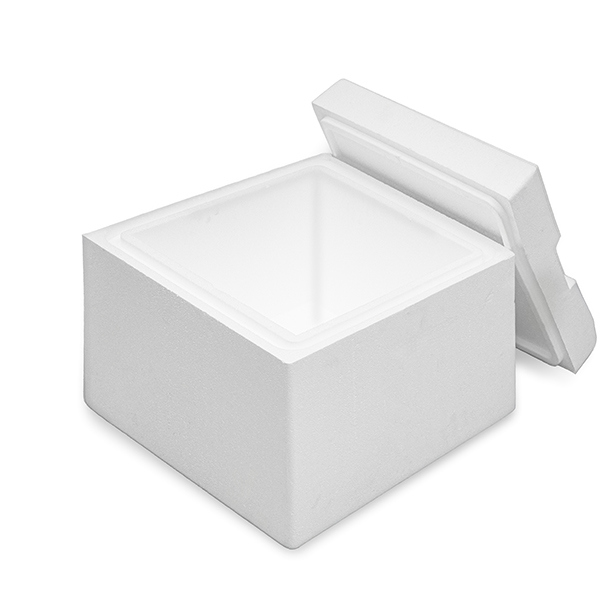Boxes: (82, 81, 595, 547)
